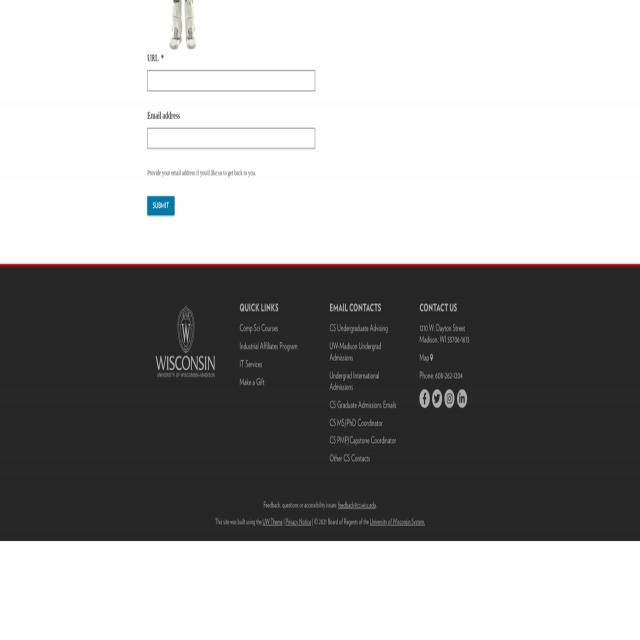button: (155, 301, 215, 382), (147, 0, 200, 66), (147, 196, 175, 216), (419, 389, 430, 408), (432, 389, 442, 408), (457, 390, 467, 408), (444, 390, 454, 407), (429, 353, 434, 362)
field: (147, 70, 315, 91), (147, 128, 315, 148)
